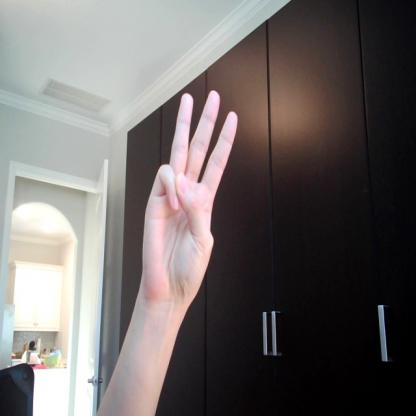six: (139, 84, 240, 311)
